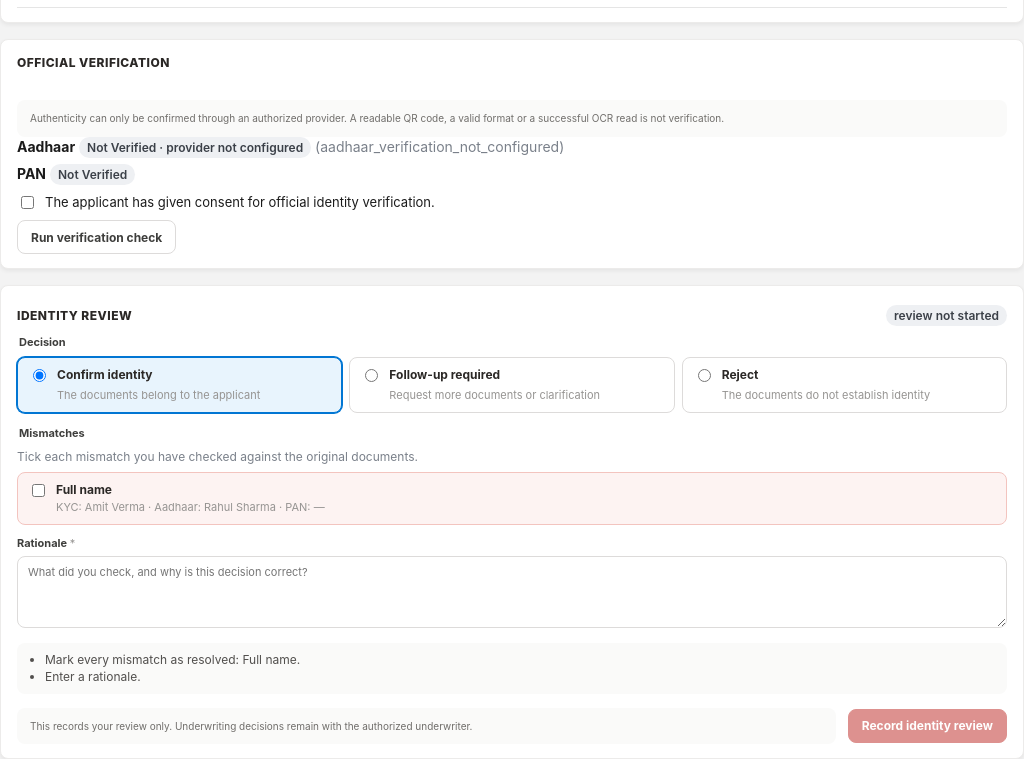
identity verification view › submits an identity review with resolved mismatches and rationale
This screenshot has width=1024, height=759.
Later steps or results of the test are not shown.
(page scrolled)
Expected: the button "Record identity review" is disabled, [848, 709, 1007, 743]
Expected: the list item "Mark every mismatch as resolved: Full name." is shown, [45, 652, 300, 667]
Click the checkbox labelled "Full name KYC: Amit Verma · Aadhaar: Rahul Sharma · PAN: —" at x=38, y=490, box [32, 484, 45, 497]
(page scrolled)
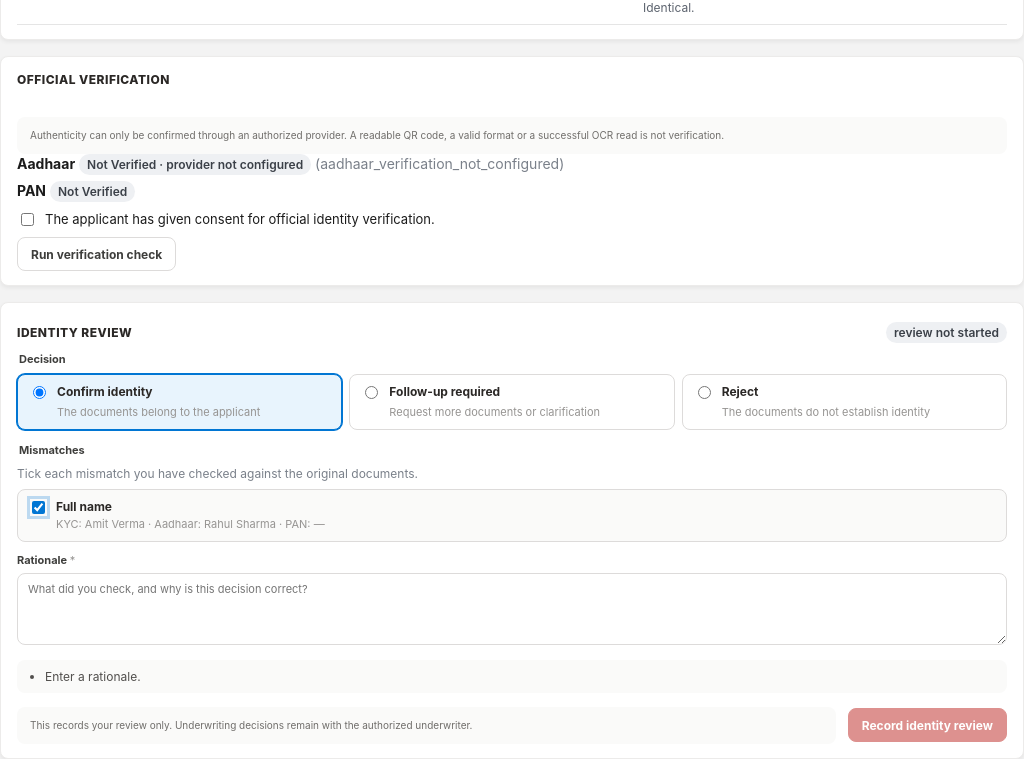
Type "Checked originals" into the text box named "Identity review rationale" at x=512, y=609, box [17, 573, 1007, 645]
(page scrolled)
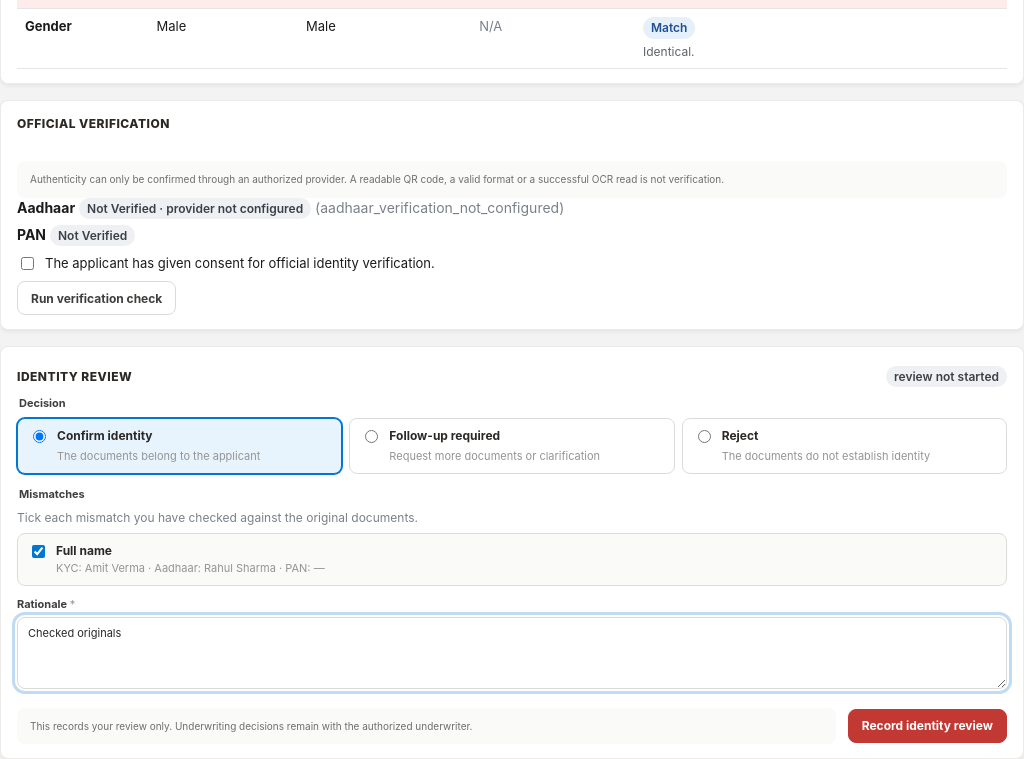
Expected: the button "Record identity review" is enabled, [848, 709, 1007, 743]
